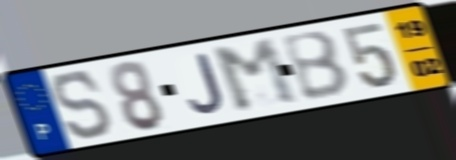5: (337, 19, 399, 89)
8: (110, 59, 166, 133)
B: (278, 28, 354, 104)
J: (186, 50, 228, 116)
M: (208, 35, 304, 116)
S: (50, 69, 116, 142)
